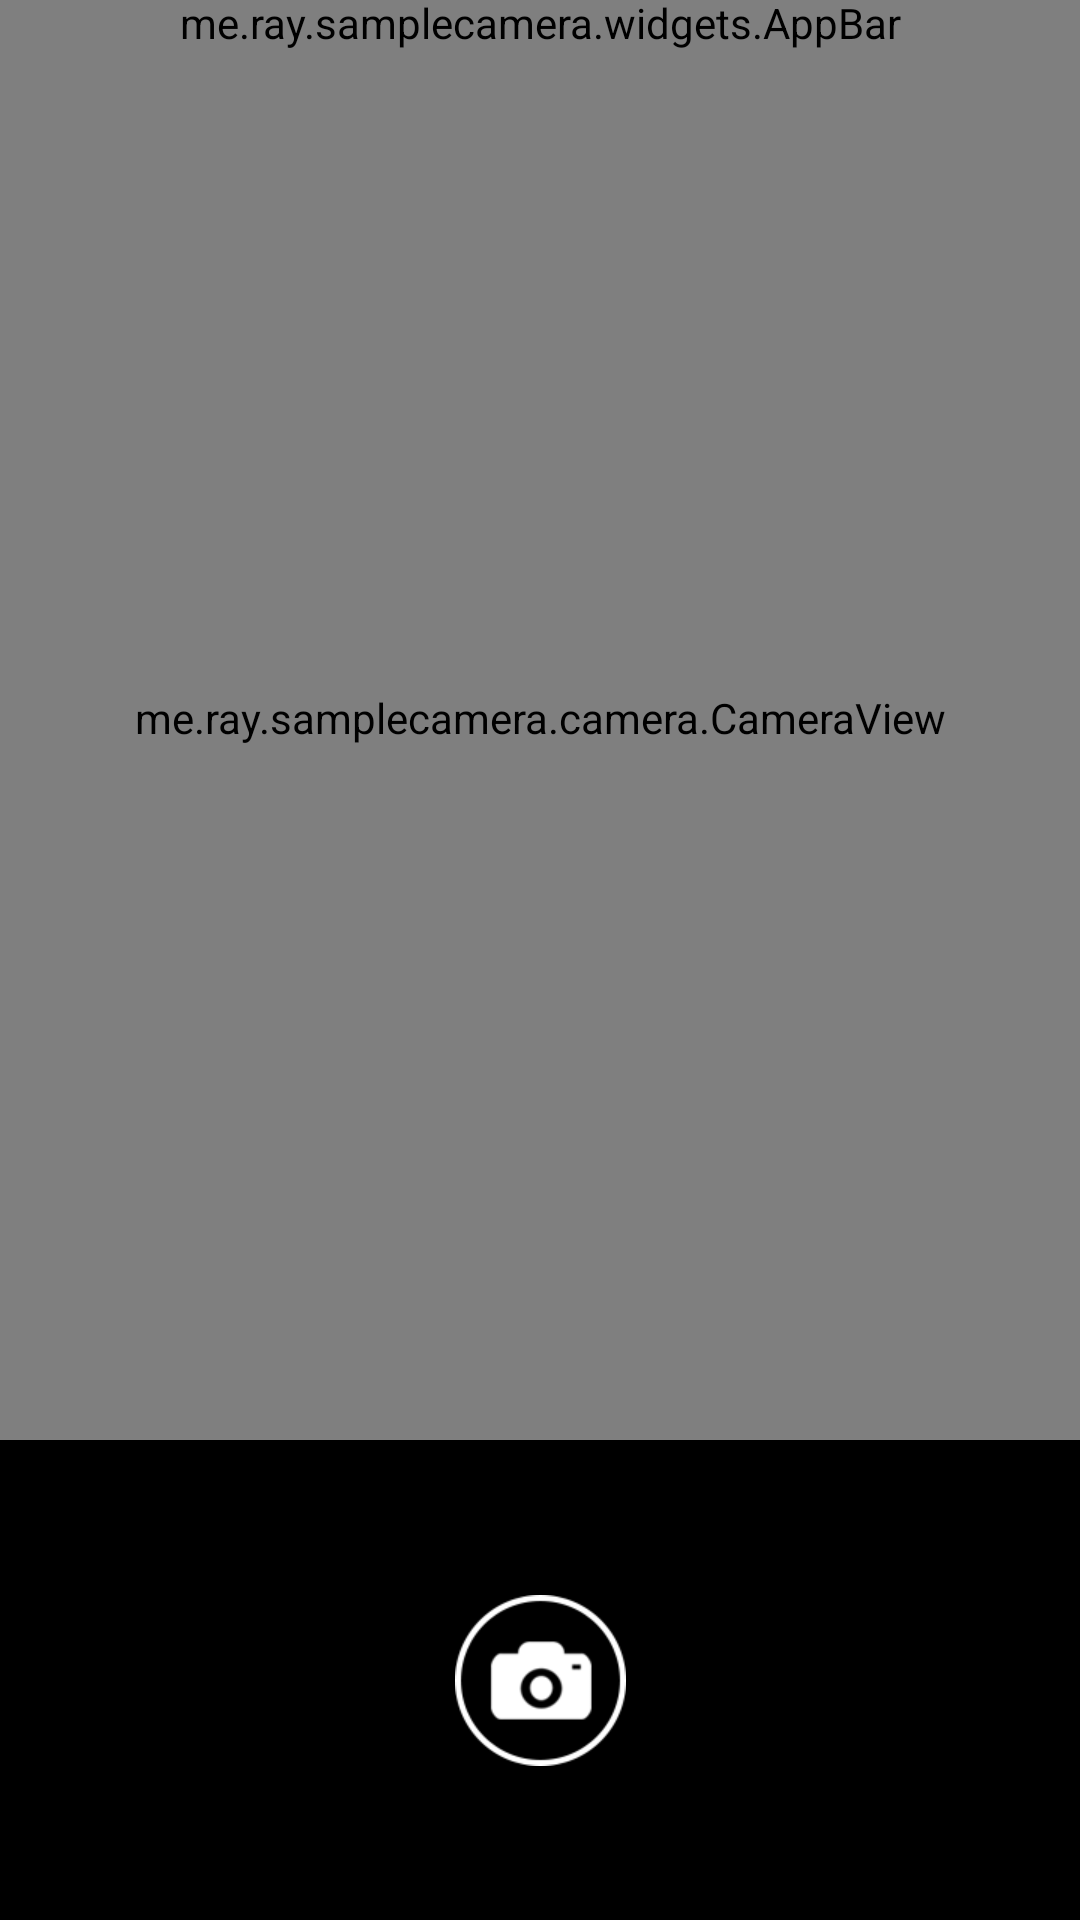

Icons on this 1080w x 1920h Android screen, each with the point to tap as point (x, y):
camera: point (540, 1680)
